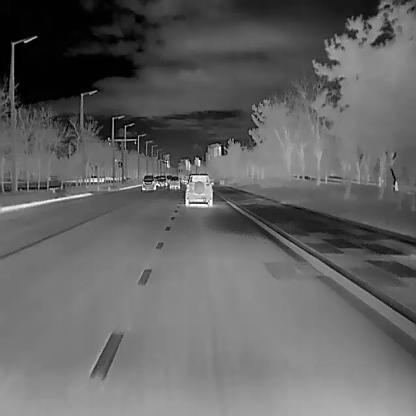car: (184, 173, 214, 206), (141, 174, 155, 190), (169, 175, 180, 189), (154, 175, 166, 186), (181, 175, 189, 185), (166, 175, 172, 184)
